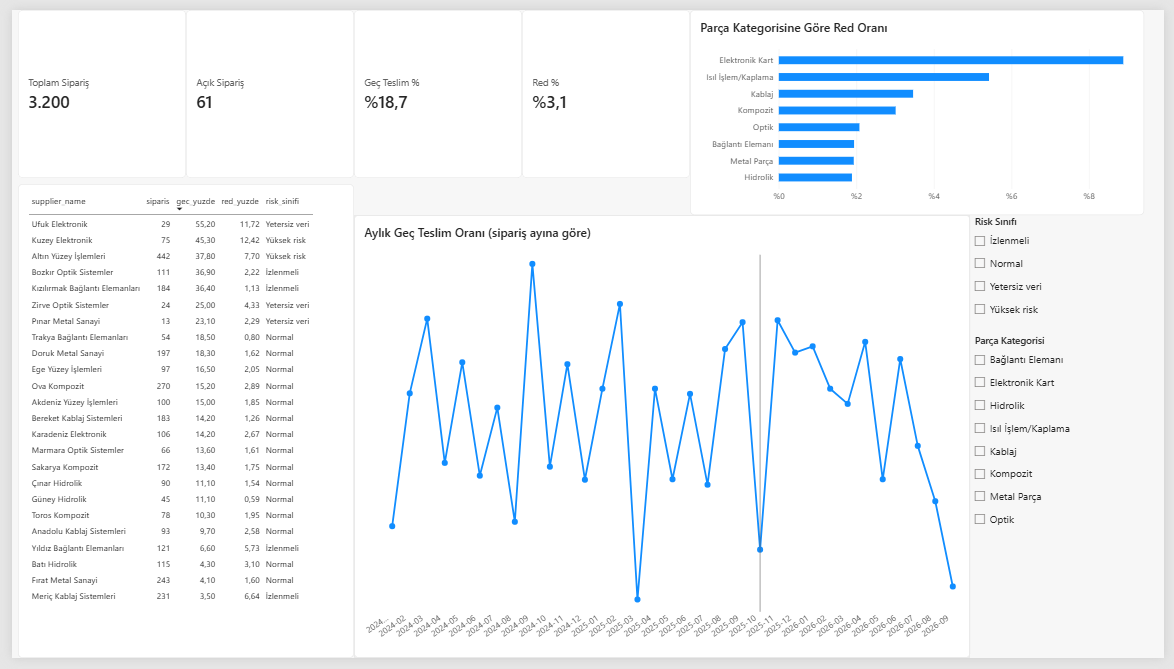

Layout of this report page (visuals, bound fields, positions):
{"tool":"powerbi","page":{"name":"1. sayfa","canvas":[1920,1080],"ordinal":0},"visuals":[{"type":"cardVisual","fields":{"Data":["v_order_facts.Toplam Sipariş Gösterim"]},"box":[10,0,280,280],"z":2},{"type":"cardVisual","fields":{"Data":["v_order_facts.Açık Sipariş"]},"box":[290,0,280,280],"z":3},{"type":"cardVisual","fields":{"Data":["v_order_facts.Geç Teslim %"]},"box":[570,0,280,280],"z":4},{"type":"cardVisual","fields":{"Data":["v_order_facts.Red %"]},"box":[850,0,280,280],"z":5},{"type":"tableEx","fields":{"Values":["v_supplier_scorecard.supplier_name","v_supplier_scorecard.siparis","v_supplier_scorecard.gec_yuzde","v_supplier_scorecard.red_yuzde","v_supplier_scorecard.risk_sinifi"]},"box":[10,290,560,790],"z":6},{"type":"lineChart","title":"Aylık Geç Teslim Oranı (sipariş ayına göre)","fields":{"Category":["v_order_facts.siparis_ayi"],"Y":["v_order_facts.Geç Teslim %"]},"box":[570,341.7,1026.7,738.3],"z":7},{"type":"clusteredBarChart","title":"Parça Kategorisine Göre Red Oranı","fields":{"Category":["v_order_facts.parca_kategori"],"Y":["v_order_facts.Red %"]},"box":[1130,0,756.7,341.7],"z":8},{"type":"slicer","fields":{"Values":["v_supplier_scorecard.risk_sinifi"]},"box":[1596.7,341.7,323.3,198.3],"z":9},{"type":"slicer","fields":{"Values":["v_order_facts.parca_kategori"]},"box":[1597,540,323,540],"z":10}]}

Visuals, with their boxes in screenshot pixels (x1, y1, x2, y2), scaled from the page's 1920x1080 canvas onto the 1174x669 screenshot:
cardVisual - v_order_facts.Toplam Sipariş Gösterim: Rect(6, 0, 177, 173)
cardVisual - v_order_facts.Açık Sipariş: Rect(177, 0, 349, 173)
cardVisual - v_order_facts.Geç Teslim %: Rect(349, 0, 520, 173)
cardVisual - v_order_facts.Red %: Rect(520, 0, 691, 173)
tableEx - v_supplier_scorecard.supplier_name x v_supplier_scorecard.siparis: Rect(6, 180, 349, 668)
"Aylık Geç Teslim Oranı (sipariş ayına göre)" lineChart: Rect(349, 212, 976, 668)
"Parça Kategorisine Göre Red Oranı" clusteredBarChart: Rect(691, 0, 1154, 212)
slicer - v_supplier_scorecard.risk_sinifi: Rect(976, 212, 1173, 334)
slicer - v_order_facts.parca_kategori: Rect(976, 334, 1173, 668)
